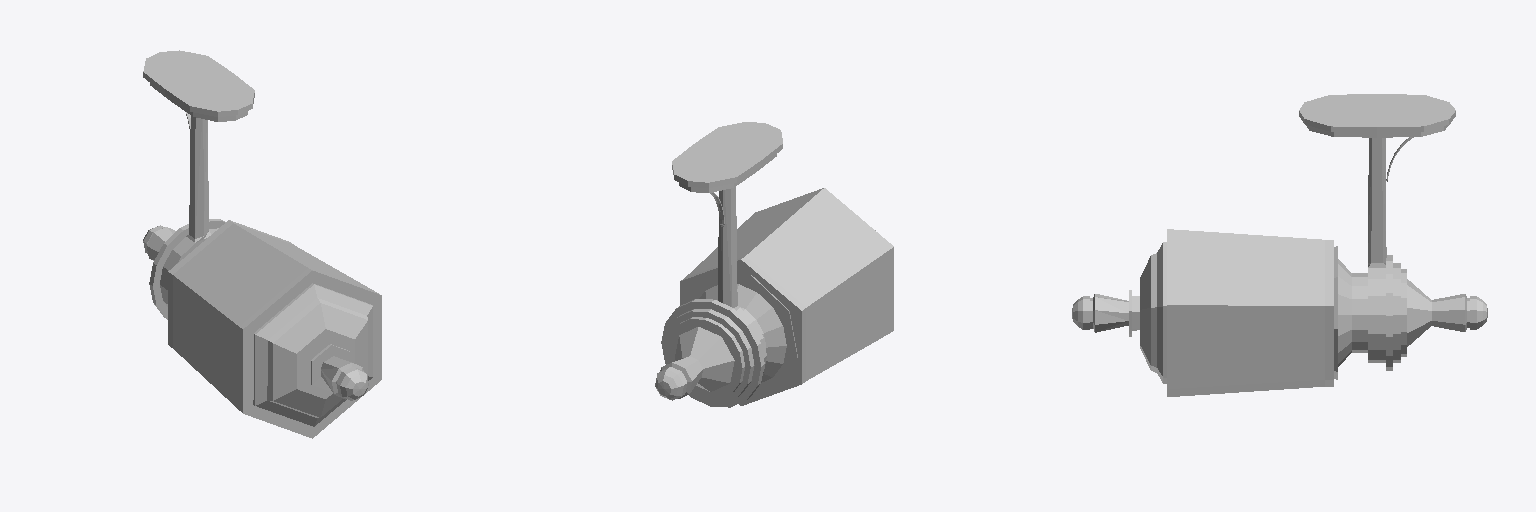
The model's file is lamp.obj.
The picture shows the model from 3 angles: view 1: azimuth 30°, elevation 25°; view 2: azimuth 150°, elevation 25°; view 3: azimuth 270°, elevation 25°; orthographic projection.
Parts seen in each view (by area): view 1: Lamp_Holder_Circle; view 2: Lamp_Holder_Circle; view 3: Lamp_Holder_Circle.
Boxes of the visible parts, x1=… form: Lamp_Holder_Circle: x1=143, y1=50, x2=381, y2=438; Lamp_Holder_Circle: x1=655, y1=122, x2=893, y2=407; Lamp_Holder_Circle: x1=1072, y1=94, x2=1487, y2=396.
Bounding box in the file's own units: 0.782 × 1.52 × 2.02.